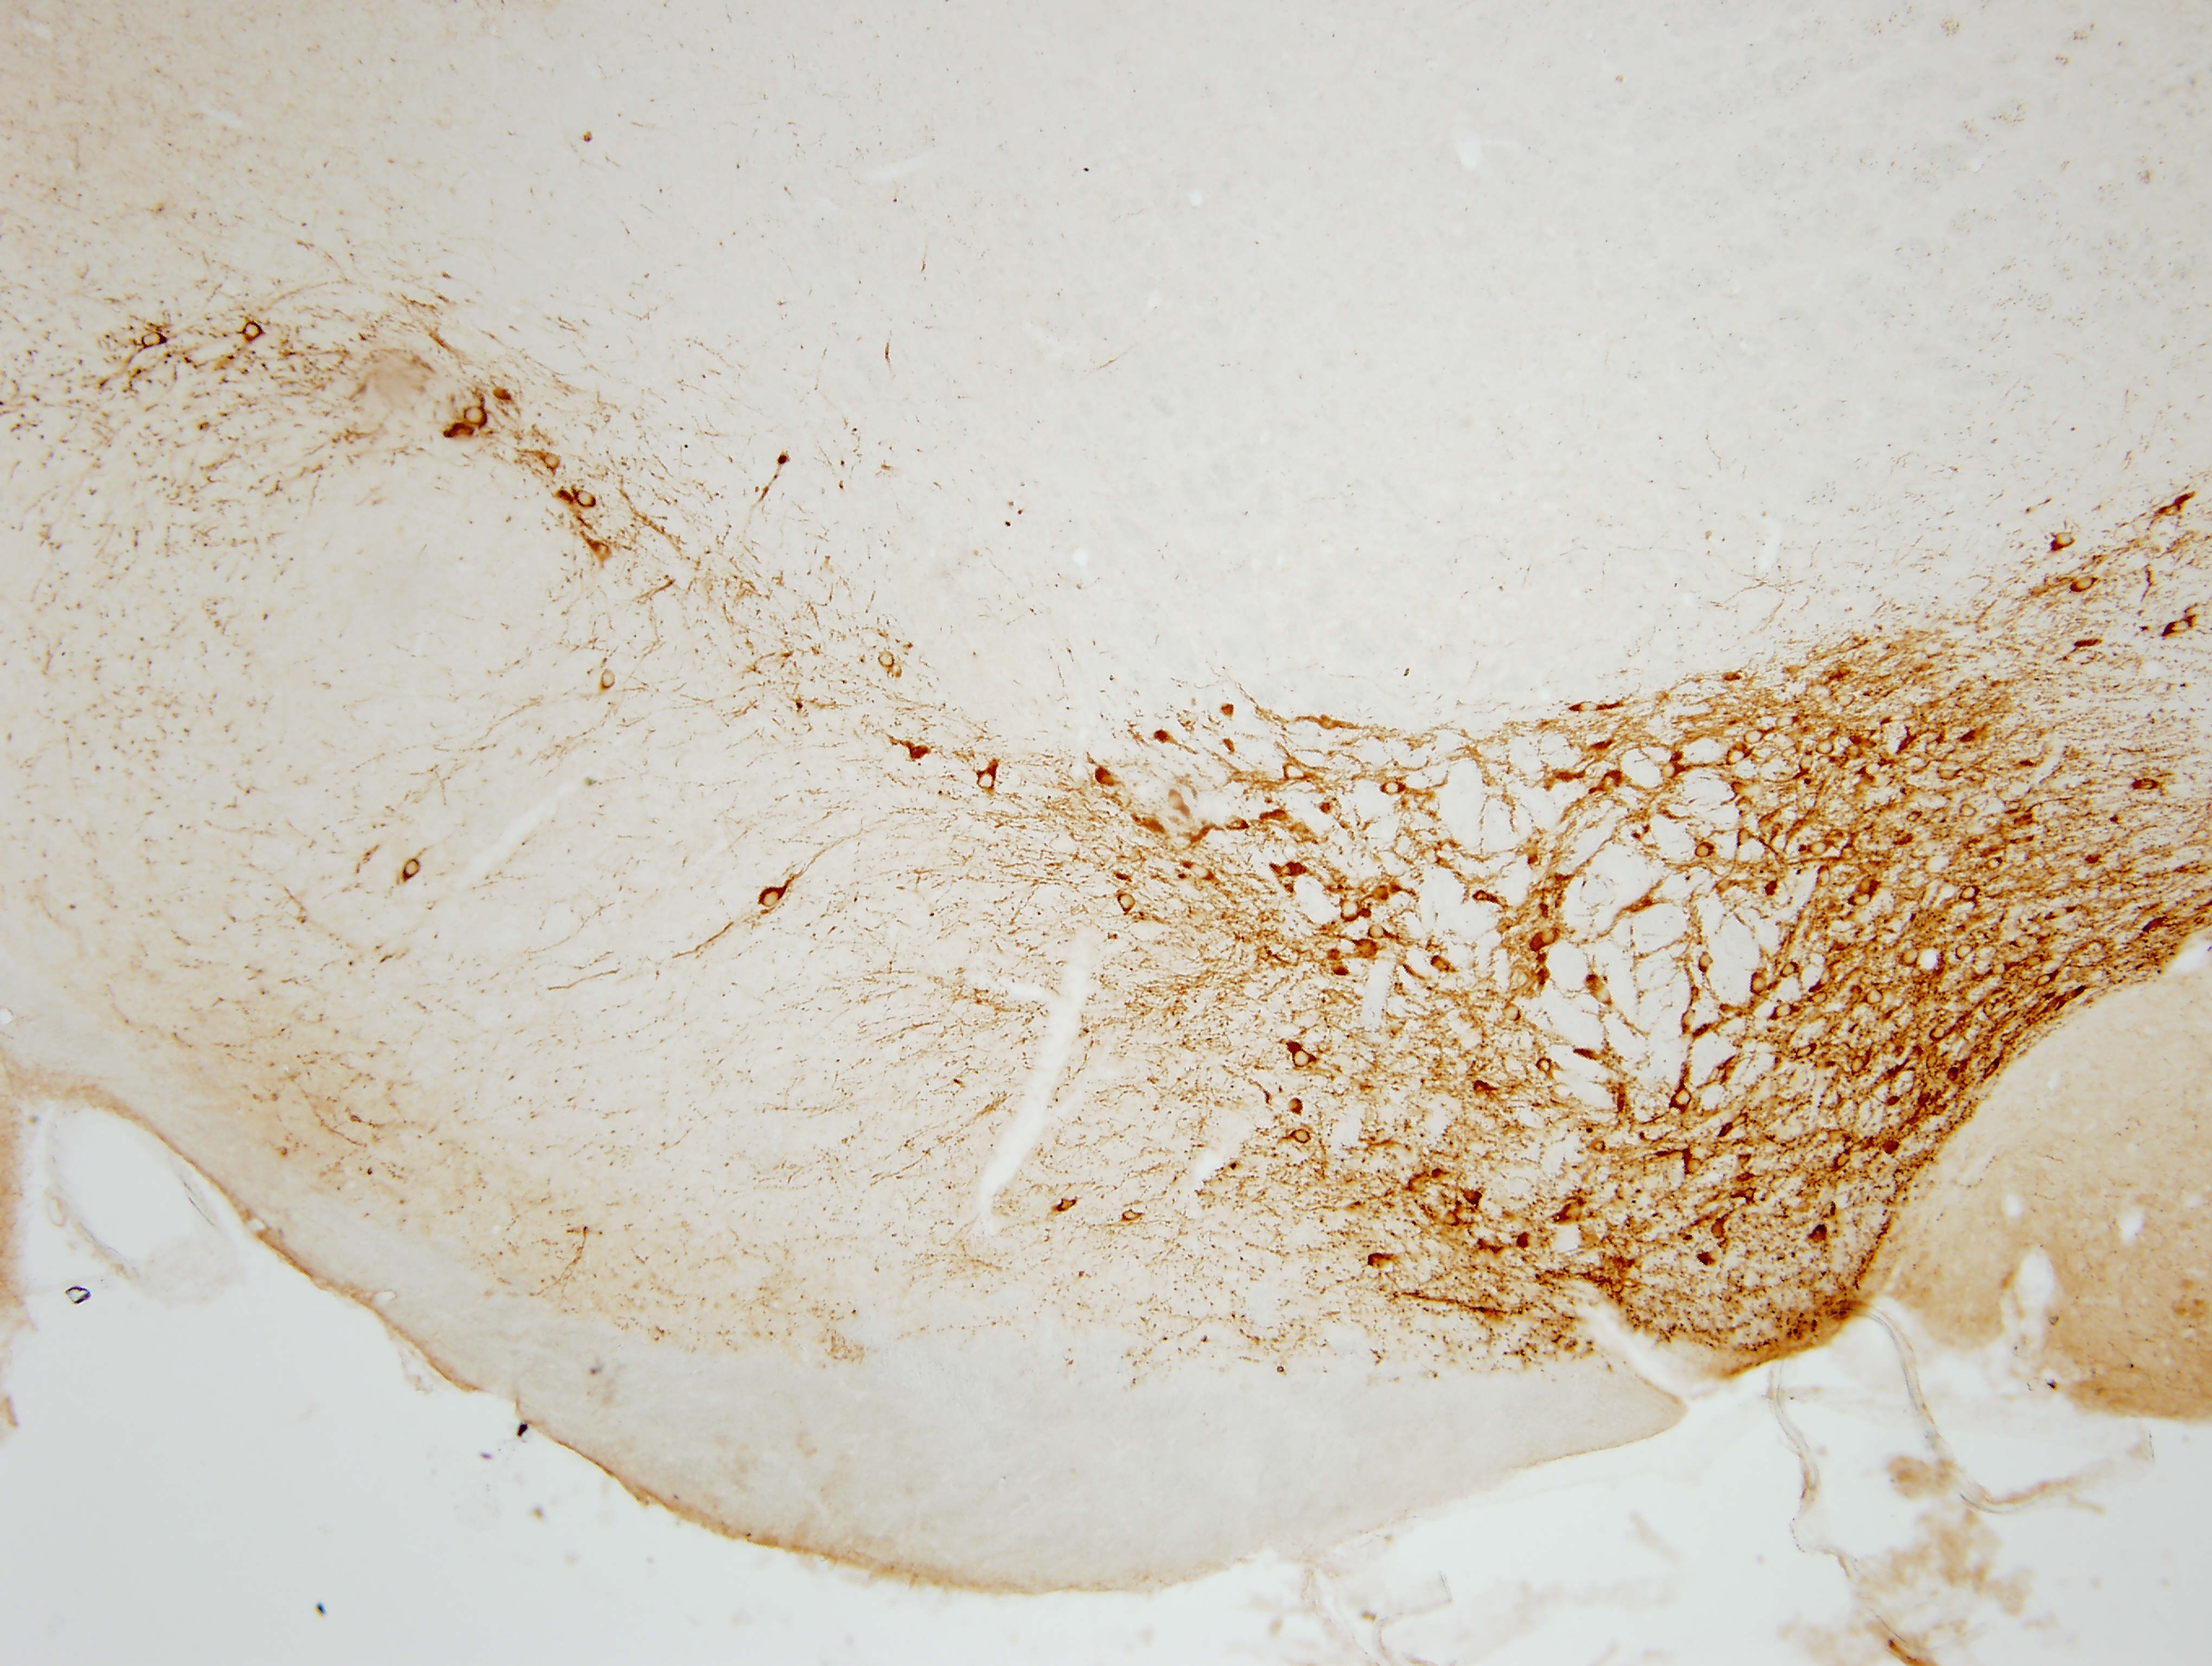neuron: (574, 487, 600, 513), (589, 537, 616, 563), (595, 668, 621, 695), (759, 887, 785, 914), (974, 768, 1000, 795), (1116, 891, 1142, 917), (1187, 859, 1214, 886), (1338, 894, 1364, 921), (142, 327, 168, 354), (1576, 693, 1602, 719), (1589, 982, 1616, 1008), (1663, 1003, 1689, 1029), (1724, 744, 1750, 770), (1745, 721, 1771, 747), (1775, 709, 1801, 735), (1850, 887, 1876, 914), (2070, 572, 2097, 598), (2168, 613, 2195, 639), (241, 320, 268, 346), (463, 402, 490, 429), (1812, 863, 1836, 889), (539, 450, 565, 474), (1441, 1208, 1462, 1229), (1696, 952, 1717, 973), (1502, 1003, 1523, 1022), (1535, 1055, 1555, 1076), (1673, 1089, 1694, 1108), (1735, 826, 1756, 845), (1799, 751, 1820, 770), (1929, 1024, 1950, 1043), (1937, 765, 1958, 784), (1976, 1185, 1995, 1206), (1985, 852, 2004, 873), (878, 651, 897, 670), (888, 661, 908, 681), (1058, 1197, 1077, 1216), (1123, 1208, 1142, 1227), (1287, 1096, 1306, 1115), (1292, 1050, 1311, 1069), (1292, 1127, 1311, 1146), (1369, 922, 1388, 941), (1383, 779, 1402, 798), (1432, 957, 1451, 976), (1539, 928, 1558, 947), (1602, 772, 1621, 791), (1661, 761, 1680, 781), (1680, 1008, 1700, 1027), (1686, 1157, 1705, 1176), (1696, 842, 1715, 861), (1729, 1111, 1749, 1130), (1750, 975, 1770, 994), (1773, 1001, 1792, 1020), (1780, 961, 1799, 980), (1782, 742, 1801, 761), (1796, 1045, 1815, 1064), (1810, 838, 1829, 858), (1812, 989, 1831, 1008), (1817, 738, 1836, 758), (1834, 1152, 1854, 1171), (1840, 843, 1859, 863), (1848, 1055, 1868, 1074), (1864, 760, 1883, 779), (1866, 987, 1885, 1006), (1902, 947, 1922, 966), (1957, 941, 1976, 961), (1958, 801, 1978, 821), (1960, 884, 1979, 903), (1990, 961, 2009, 980), (2004, 796, 2023, 816), (2025, 950, 2044, 970), (2035, 971, 2055, 991), (2055, 530, 2074, 550), (2137, 775, 2156, 795), (1906, 810, 1920, 824), (1595, 1139, 1607, 1153), (1743, 1188, 1757, 1200), (1843, 1139, 1857, 1152)
